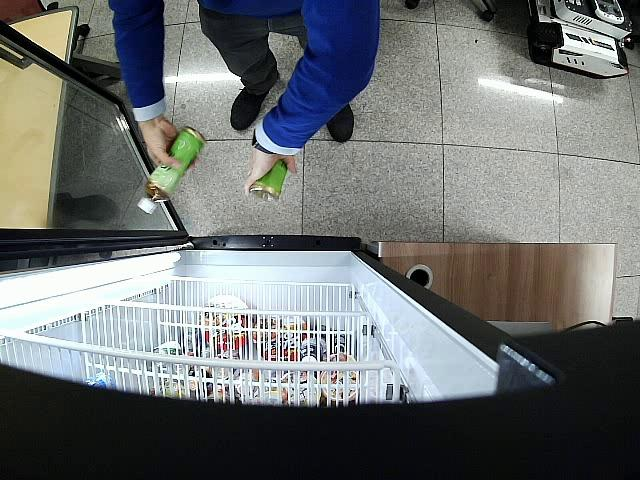00_hand: (242, 154, 296, 199), (138, 117, 179, 172)
19_17cha: (138, 127, 207, 214), (249, 159, 289, 202)
